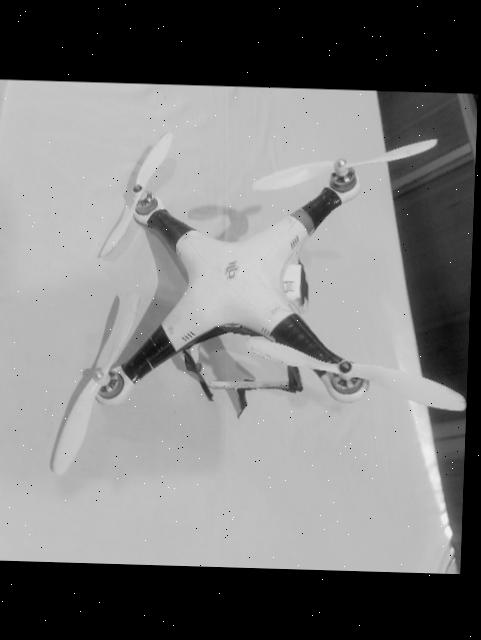drone: (43, 144, 420, 428)
